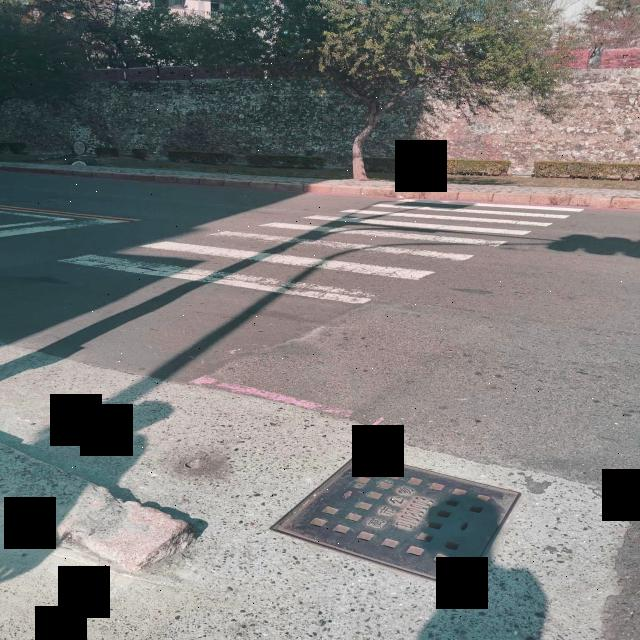zebra_crossing: (347, 68, 412, 327)
